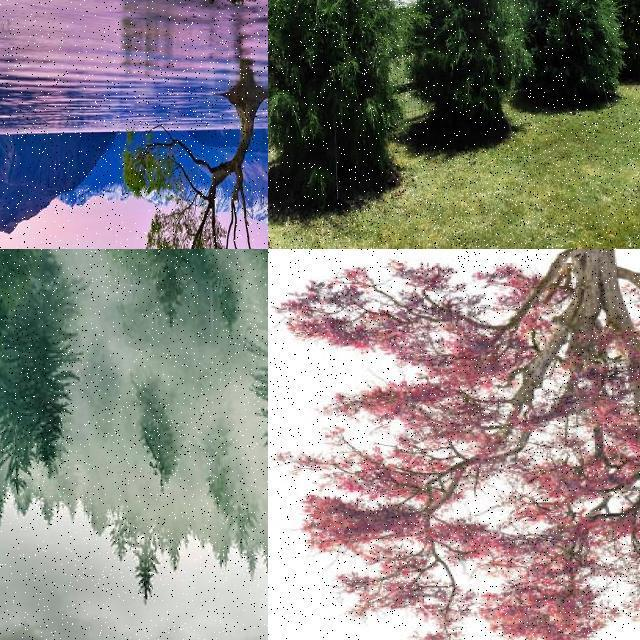tree: (268, 248, 640, 640), (268, 1, 408, 216), (120, 84, 268, 248), (0, 250, 78, 542), (404, 0, 524, 164), (512, 0, 624, 132), (548, 0, 640, 96), (268, 0, 296, 248), (133, 369, 185, 495), (134, 248, 206, 336), (42, 249, 138, 307), (596, 0, 640, 106), (132, 250, 200, 310), (244, 332, 268, 476), (221, 498, 261, 558), (133, 520, 159, 600)
